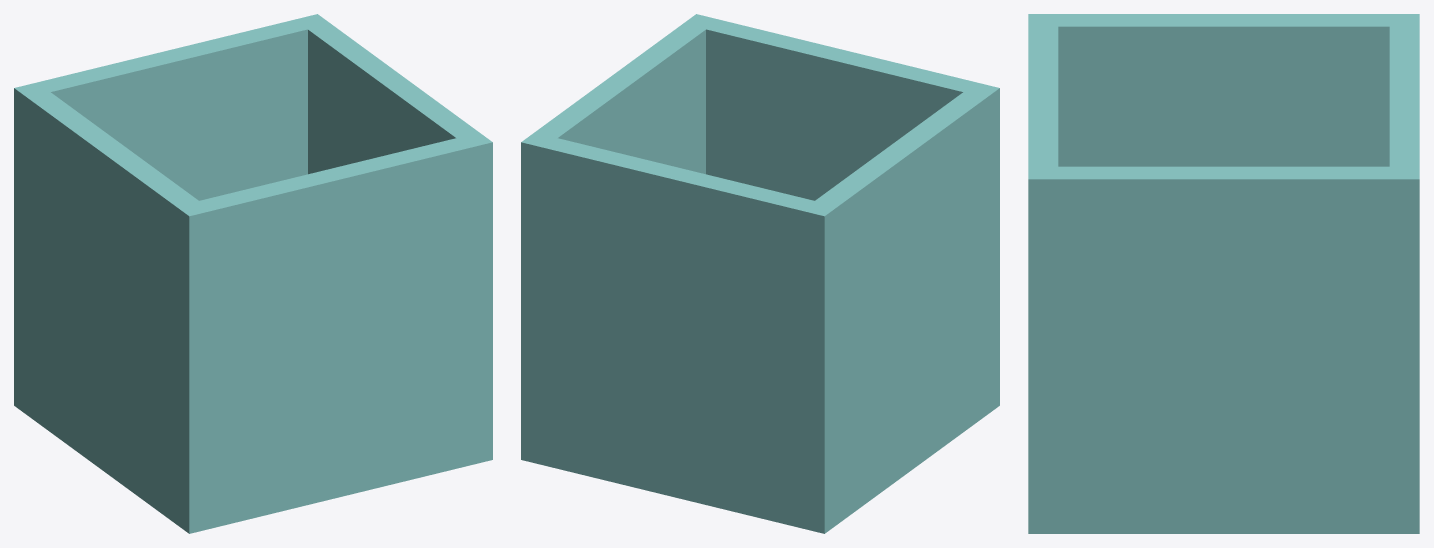
The model's file is prop_crate_roberto.fbx.
3 renders of one model, left to right at view 1: azimuth 30°, elevation 25°; view 2: azimuth 150°, elevation 25°; view 3: azimuth 270°, elevation 25°, orthographic. The views are drawn at different scales.
Visible parts, largest first — view 1: pCube1; view 2: pCube1; view 3: pCube1.
Part boxes in pixels (bbox=[...]): pCube1: bbox=[14, 14, 492, 533]; pCube1: bbox=[521, 14, 999, 533]; pCube1: bbox=[1028, 14, 1419, 533].
Size of the model in its own units: 2.1 by 2.1 by 2.1.
